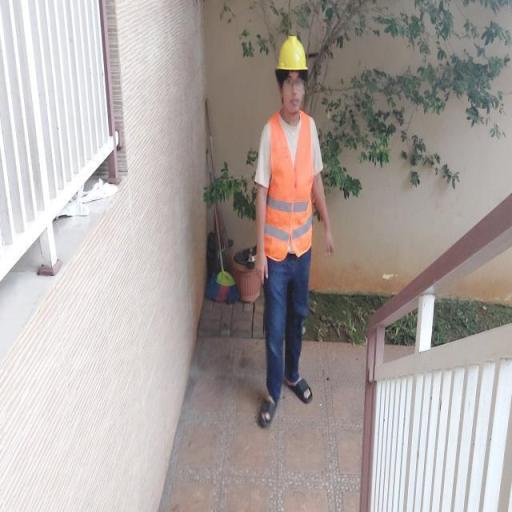Person: (208, 21, 374, 438)
boots: (254, 375, 317, 427)
helmet: (272, 30, 310, 71)
none: (318, 224, 341, 264), (251, 246, 273, 286)
vest: (249, 116, 321, 254)
